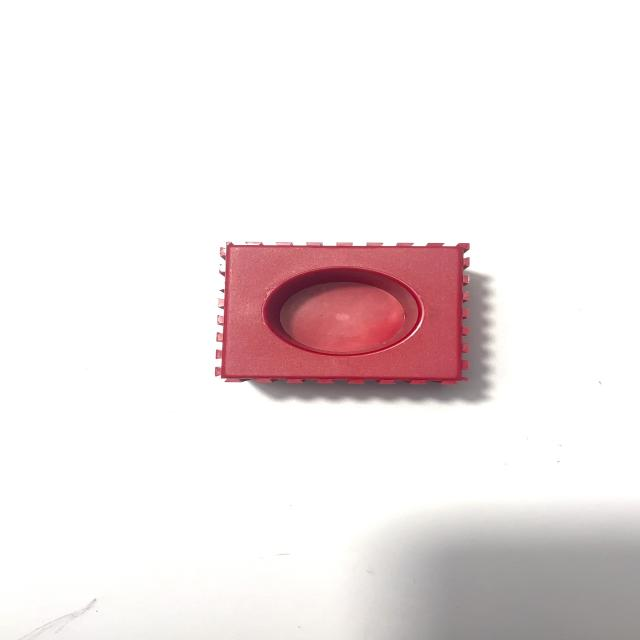Empty_Slot: (215, 243, 470, 384)
Filled_Slot: (214, 243, 469, 384)
